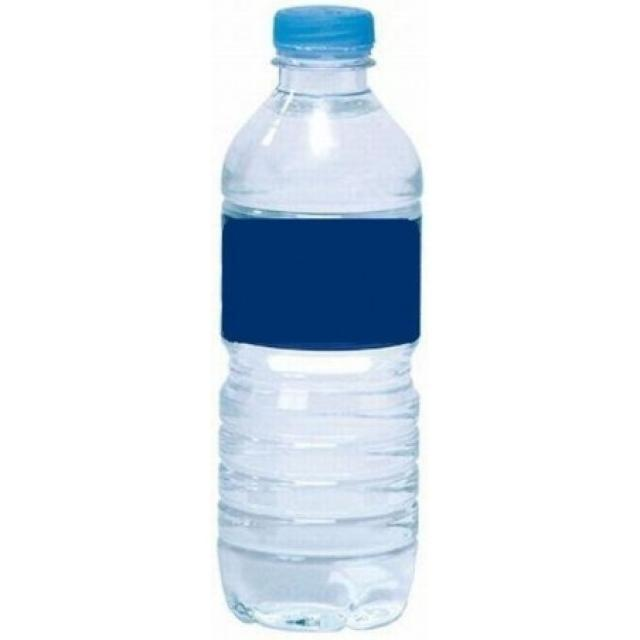Plastic: (173, 0, 472, 640)
